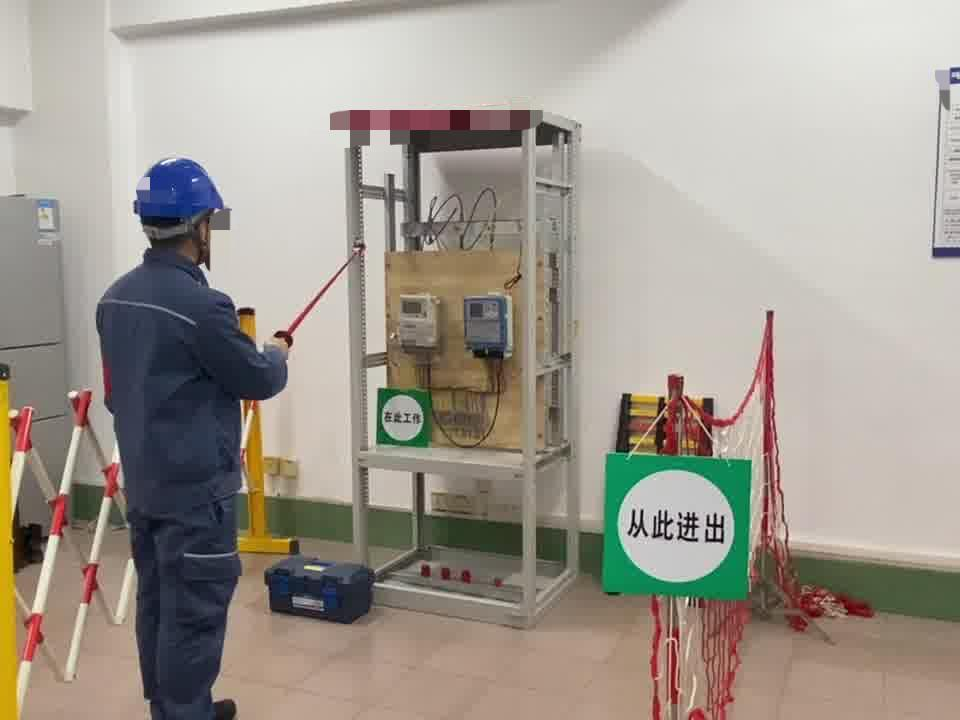halt: (135, 159, 234, 265)
inear: (185, 214, 215, 258)
